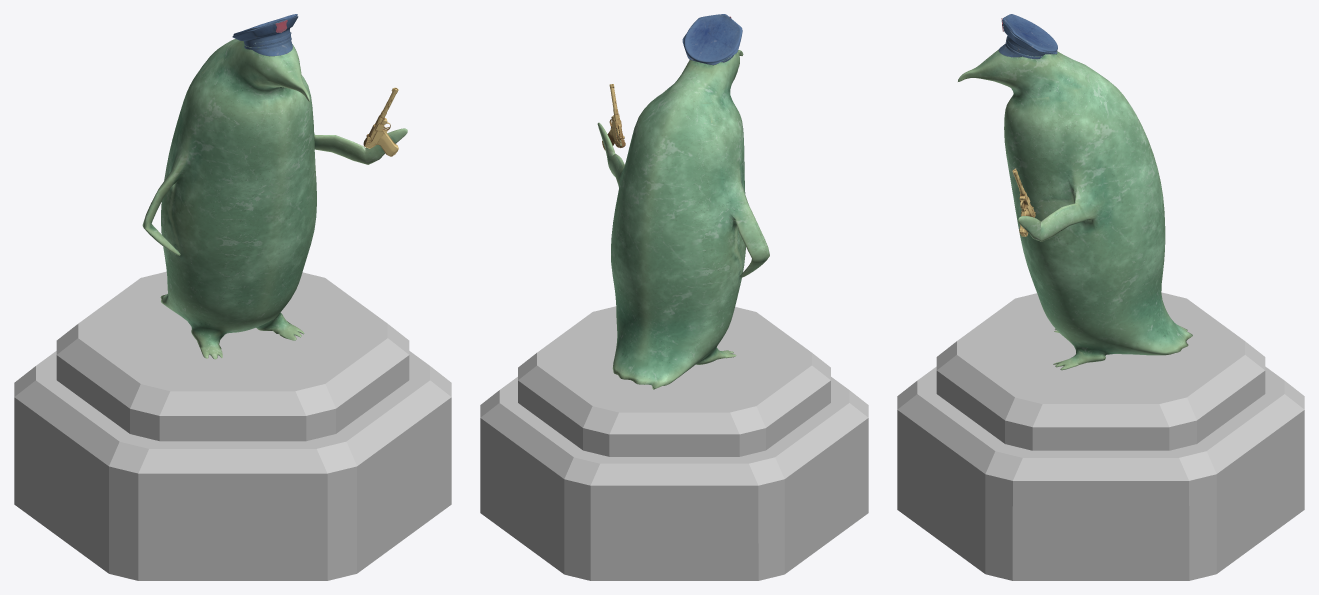
Rendered from PenguStatue.fbx.
3 renders of one model, left to right at view 1: azimuth 30°, elevation 25°; view 2: azimuth 150°, elevation 25°; view 3: azimuth 270°, elevation 25°, orthographic. The views are drawn at different scales.
Parts seen in each view (by area): view 1: Circle, Penguin; view 2: Circle, Penguin; view 3: Circle, Penguin.
Part boxes in pixels (x1,y1,x2,y2): Circle: (14, 271, 451, 580); Penguin: (142, 14, 407, 359); Circle: (480, 306, 868, 580); Penguin: (597, 14, 769, 389); Circle: (897, 292, 1304, 580); Penguin: (958, 14, 1192, 370).
Size of the model in its own units: 213 by 307 by 235.
